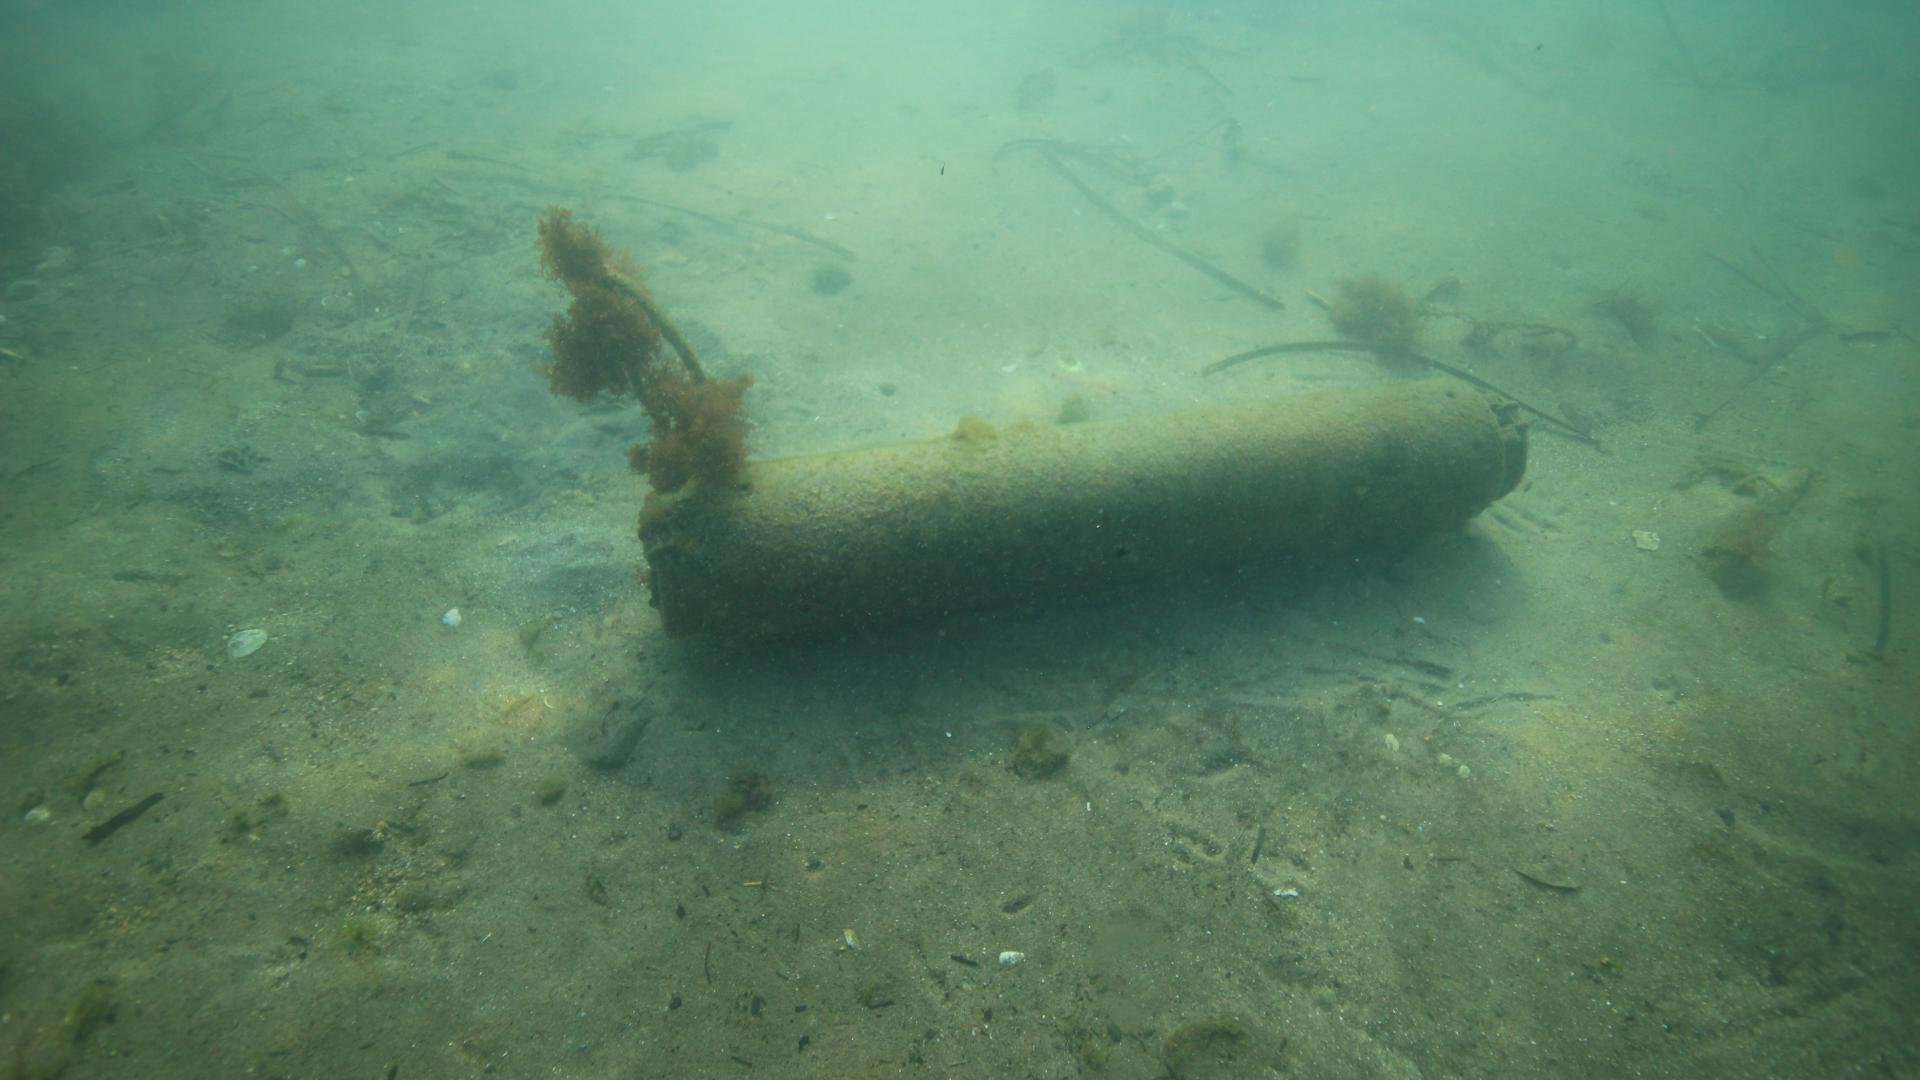eel fish trap: (640, 381, 1524, 645)
rope: (603, 262, 711, 382)
